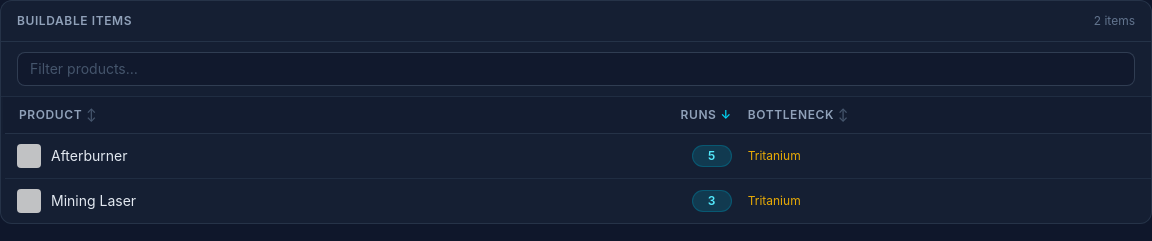
Test case: BuildableTable › filter input hides non-matching rows
The width and height of the screenshot is (1152, 241).
In the field named "Filter by product name": (576, 69) [17, 52, 1135, 86], type "after"
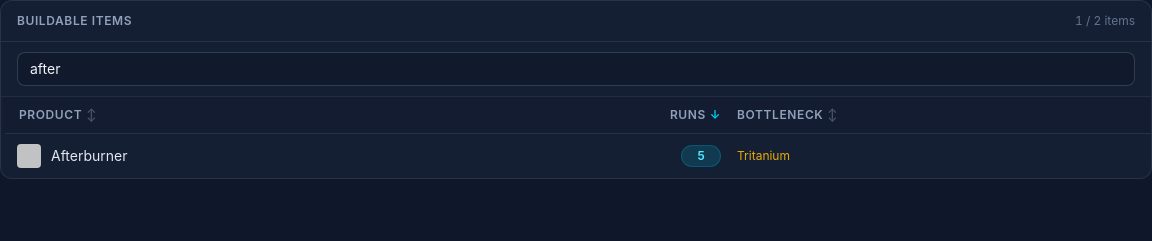
Expected: the text "Afterburner" is shown, [51, 146, 128, 166]
Expected: the text "Mining Laser" is gone
